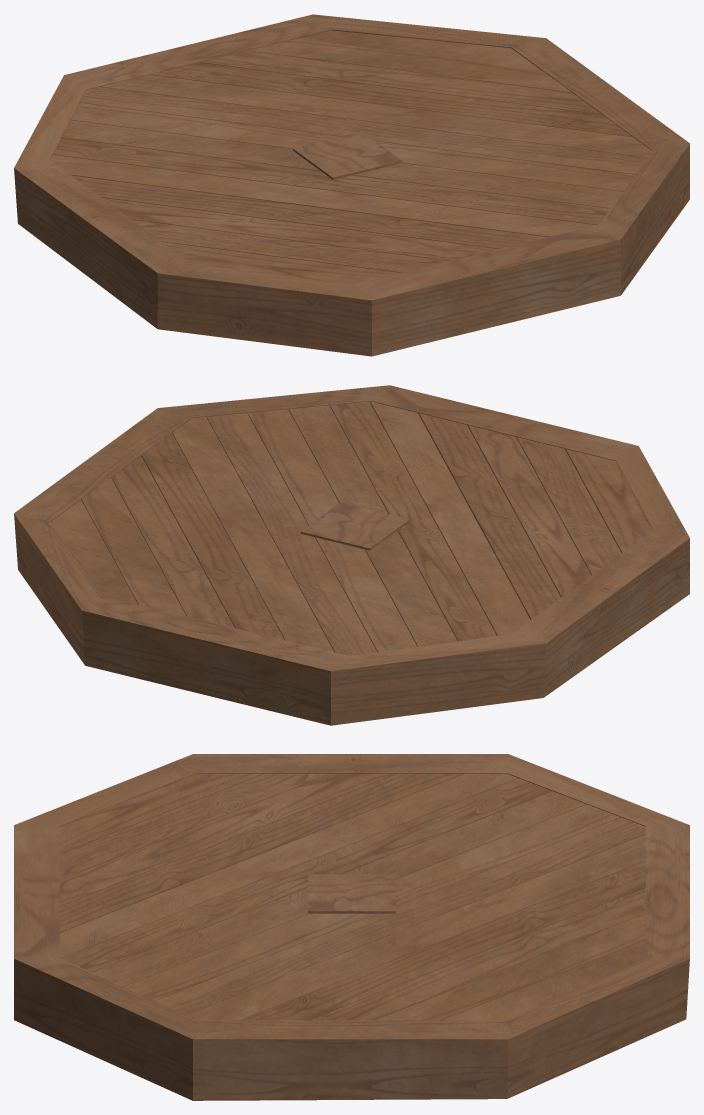
File: Weighted Wood Platform.obj
3 renders of one model, top to bottom at view 1: azimuth 30°, elevation 25°; view 2: azimuth 150°, elevation 25°; view 3: azimuth 270°, elevation 25°, orthographic. The views are drawn at different scales.
Visible parts, largest first — view 1: Cube001; view 2: Cube001; view 3: Cube001.
Part boxes in pixels (x1=…): Cube001: x1=14, y1=14, x2=689, y2=356; Cube001: x1=14, y1=385, x2=689, y2=725; Cube001: x1=14, y1=754, x2=689, y2=1100.
Bounding box in the file's own units: 858 × 88.75 × 859.
1 material, 1 textured.
